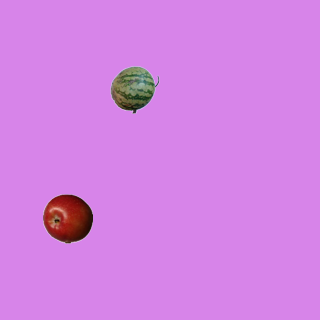Apple Braeburn: (42, 193, 92, 243)
Watermelon: (109, 64, 159, 114)
